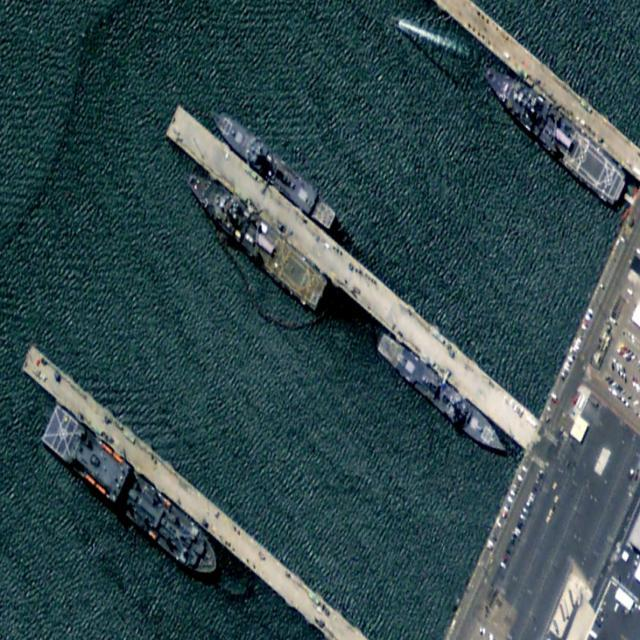Commander: (39, 403, 226, 585)
Destroyer: (374, 326, 512, 463), (202, 99, 338, 233)
Landing: (475, 52, 630, 209), (178, 158, 329, 314)
